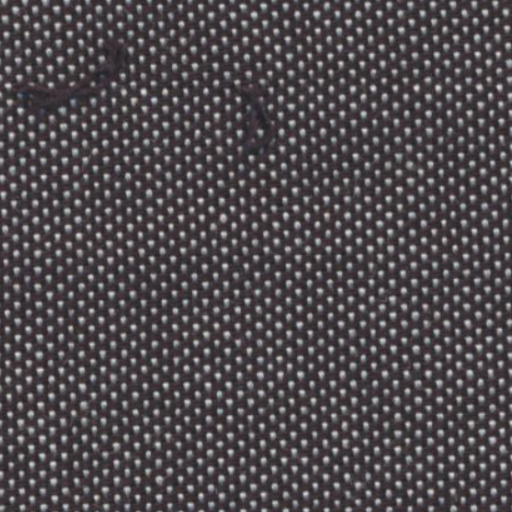DuanSha: (4, 26, 144, 122), (221, 80, 285, 166)
